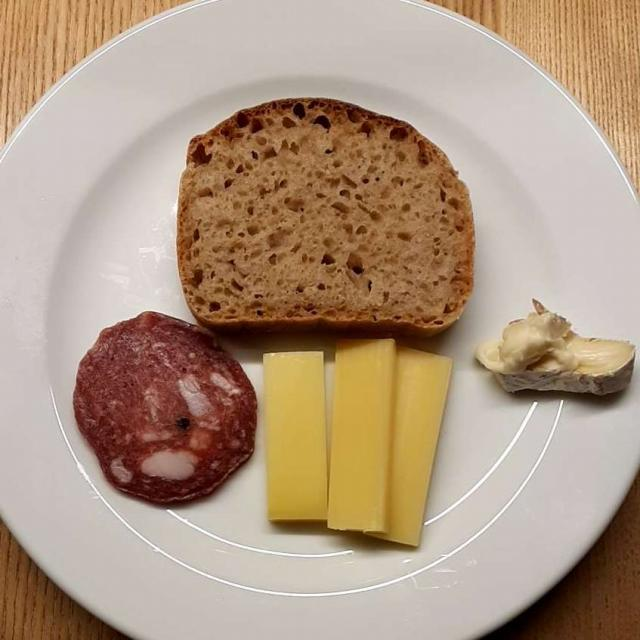bread-whole-wheat: (177, 102, 473, 335)
cheese: (265, 338, 452, 552)
salami: (74, 318, 256, 501)
soft-cheese: (478, 306, 631, 396)
